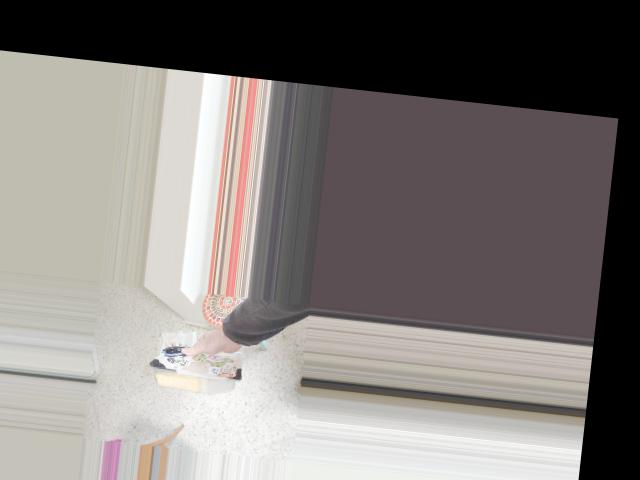cheese: (141, 320, 257, 422)
